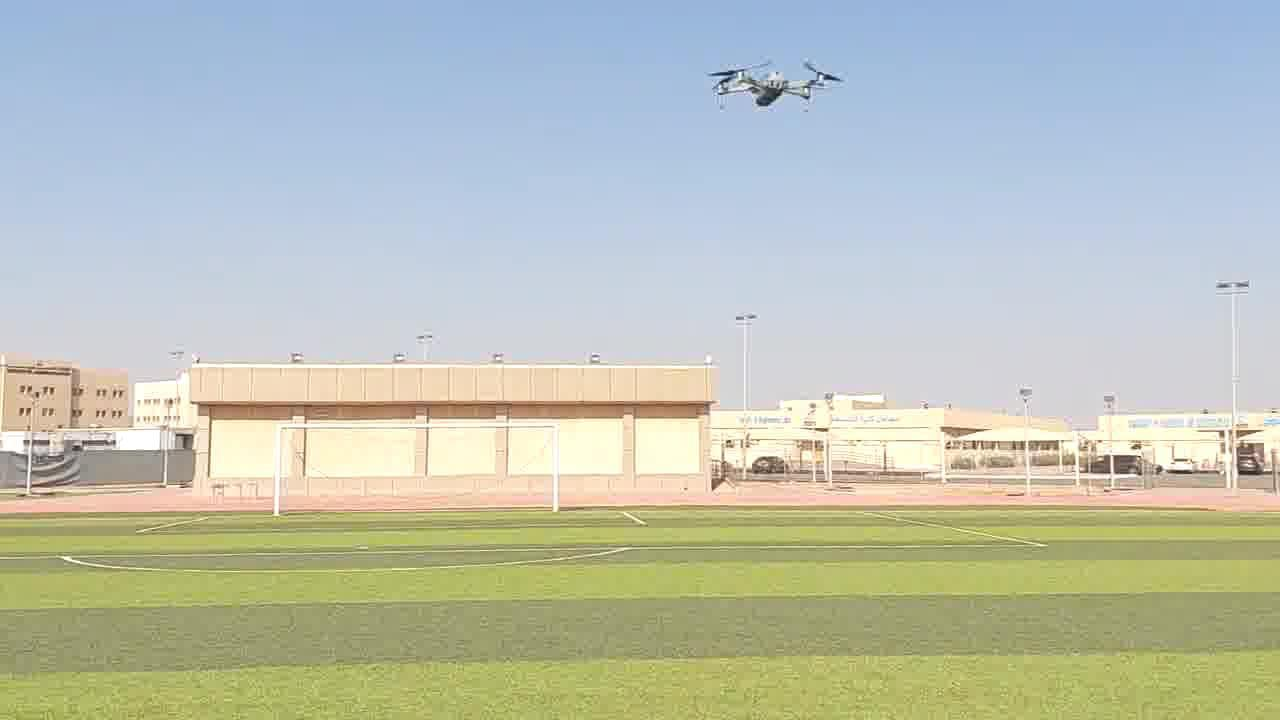drone: (705, 56, 838, 122)
